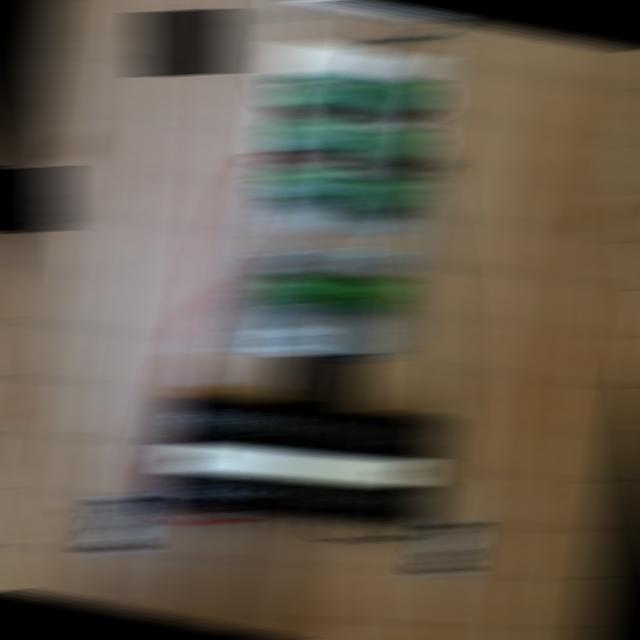Flathead_Block: (147, 399, 446, 528)
Terminal_1: (258, 266, 336, 307), (329, 273, 405, 312)
Terminal_2: (274, 113, 347, 151), (353, 123, 425, 161), (359, 74, 431, 112), (266, 162, 341, 198), (346, 173, 417, 209)
